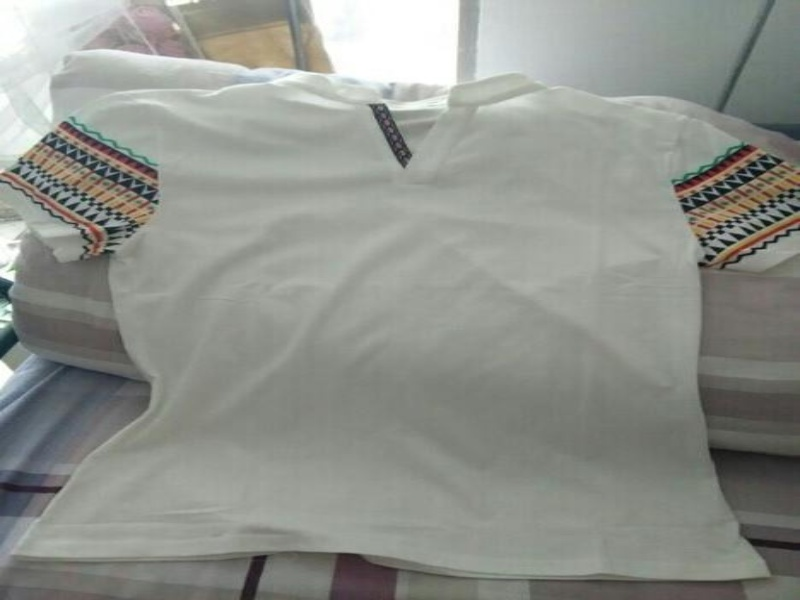short_sleeved_shirt: (0, 68, 797, 586)
